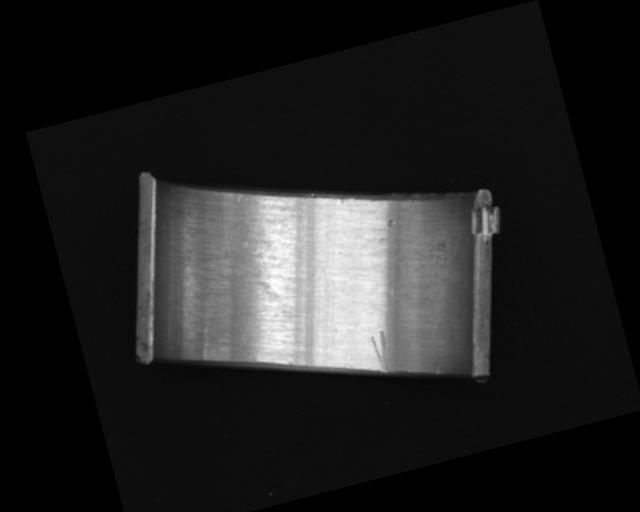bruise: (385, 216, 397, 228)
nick: (366, 329, 395, 375), (433, 362, 444, 376)
